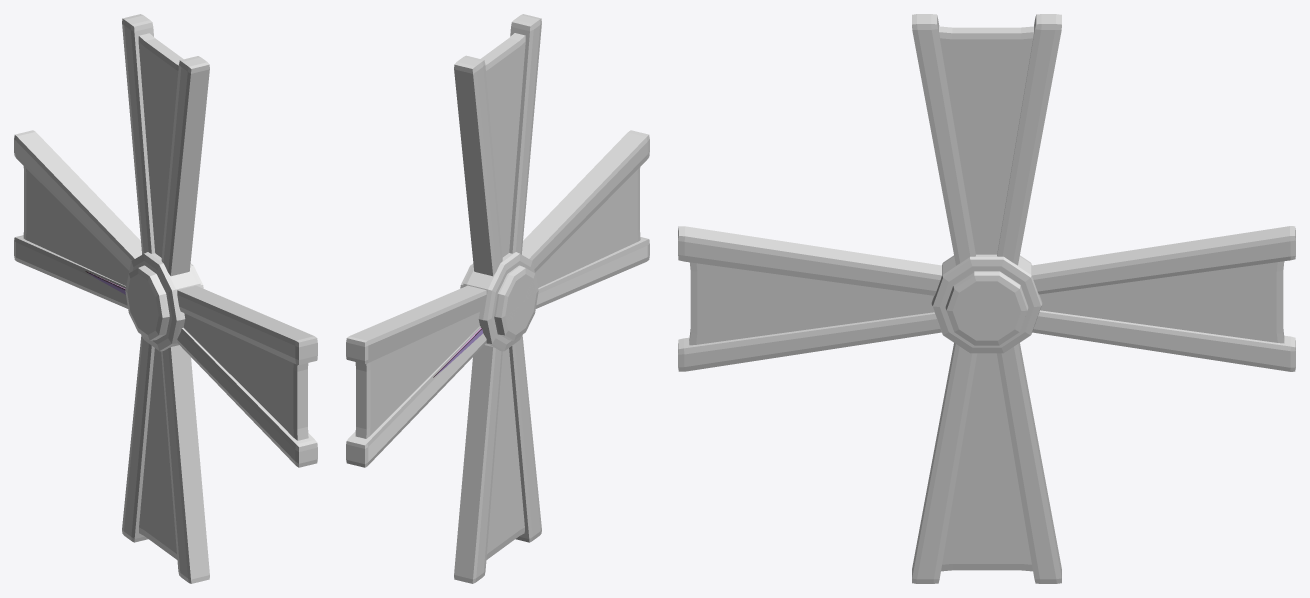
The model's file is gristmill_windturbin1.fbx.
3 renders of one model, left to right at view 1: azimuth 30°, elevation 25°; view 2: azimuth 150°, elevation 25°; view 3: azimuth 270°, elevation 25°, orthographic. The views are drawn at different scales.
Parts seen in each view (by area): view 1: Gristmill_windturbin; view 2: Gristmill_windturbin; view 3: Gristmill_windturbin.
Part boxes in pixels (x1,y1,x2,y2): Gristmill_windturbin: (14,14,317,583); Gristmill_windturbin: (346,14,649,583); Gristmill_windturbin: (678,14,1295,583).
Bounding box in the file's own units: 46.99 × 506 × 506.
2 materials, 1 textured.
